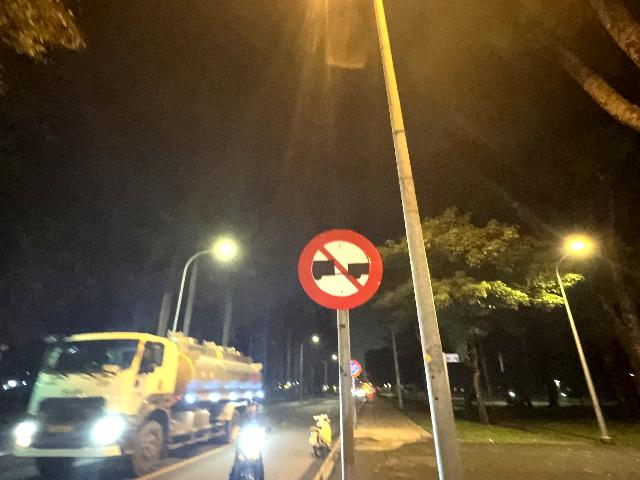cam-xe-somi-romooc: (298, 228, 383, 311)
